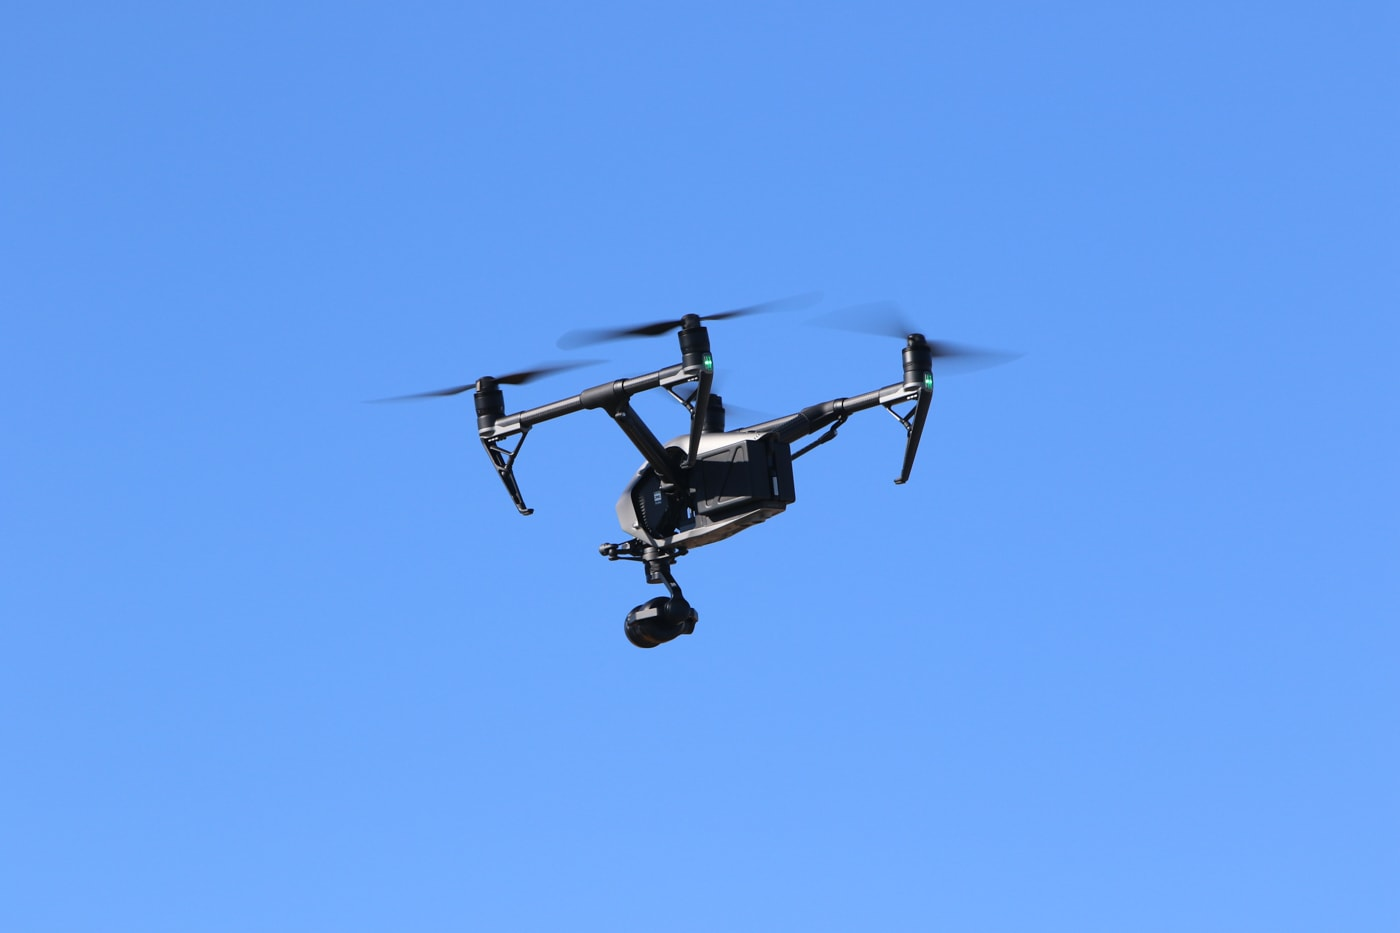drone: (360, 283, 1038, 658)
